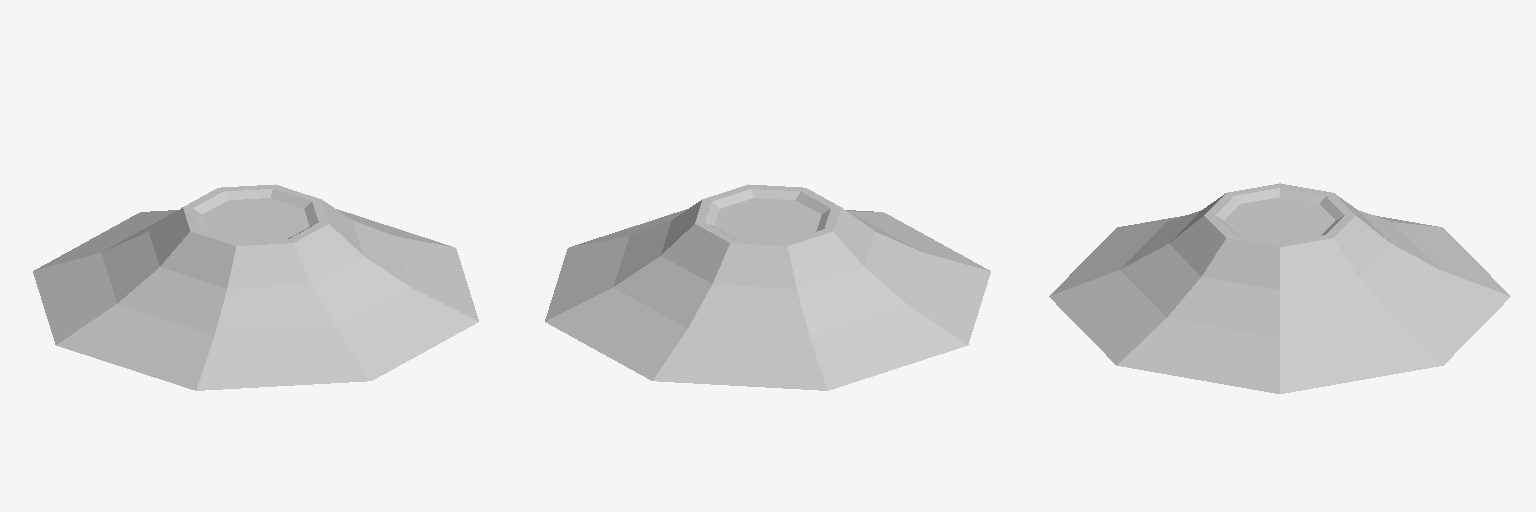
Rendered from LowCrater.obj.
The picture shows the model from 3 angles: view 1: azimuth 30°, elevation 25°; view 2: azimuth 150°, elevation 25°; view 3: azimuth 270°, elevation 25°; orthographic projection.
Parts seen in each view (by area): view 1: pSphere1; view 2: pSphere1; view 3: pSphere1.
Part boxes in pixels (x1,y1,x2,y2): pSphere1: (33, 184, 478, 390); pSphere1: (545, 184, 990, 390); pSphere1: (1049, 183, 1510, 393).
Bounding box in the file's own units: 5.53 × 1.07 × 5.53.